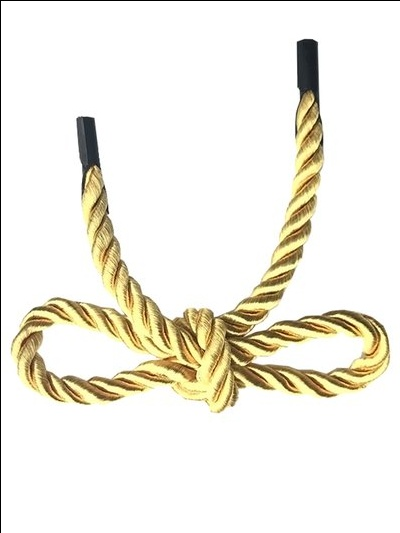9/可回收垃圾/绳子: (9, 39, 390, 413)
